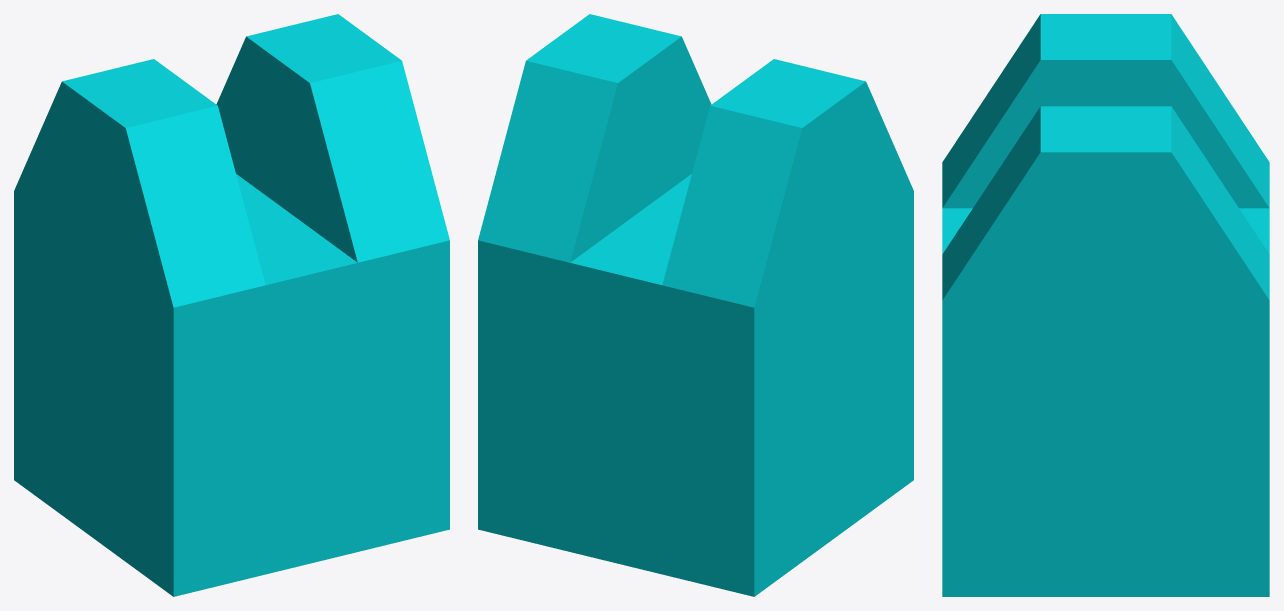
The model's file is BlauWürfel.glb.
3 views of the same model, side by side, from view 1: azimuth 30°, elevation 25°; view 2: azimuth 150°, elevation 25°; view 3: azimuth 270°, elevation 25° (orthographic). The views are drawn at different scales.
Parts seen in each view (by area): view 1: Cube; view 2: Cube; view 3: Cube.
Part boxes in pixels (<box>): Cube: <box>14,14,449,596</box>; Cube: <box>478,14,913,596</box>; Cube: <box>942,14,1269,596</box>.
Bounding box in the file's own units: 1 × 1.5 × 1.
